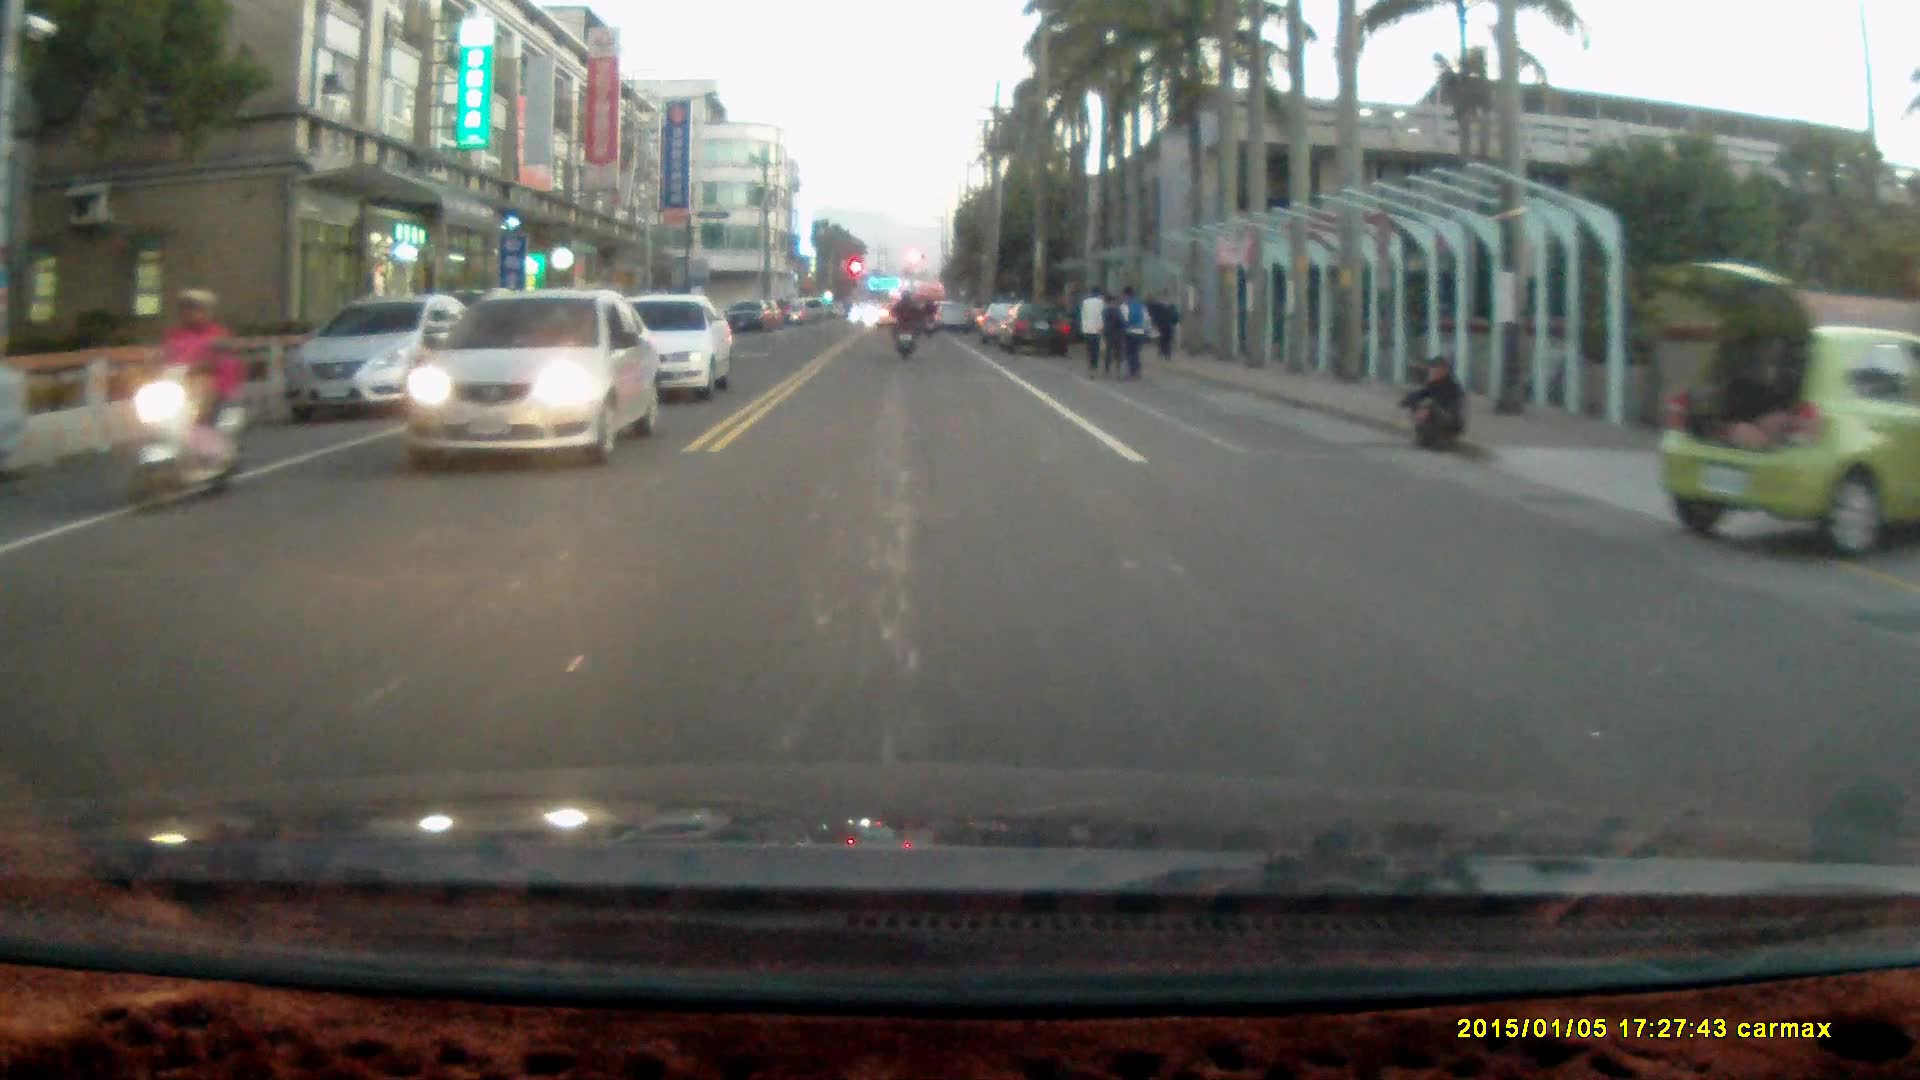pedestrian: (1400, 356, 1469, 454), (1106, 282, 1156, 382), (1078, 278, 1109, 375), (1096, 289, 1125, 377), (1150, 286, 1181, 359)
rider: (124, 282, 250, 515), (887, 284, 921, 360)
vehicle: (1655, 259, 1920, 559), (395, 285, 661, 466), (289, 294, 474, 424), (624, 293, 736, 403), (997, 301, 1075, 355)
